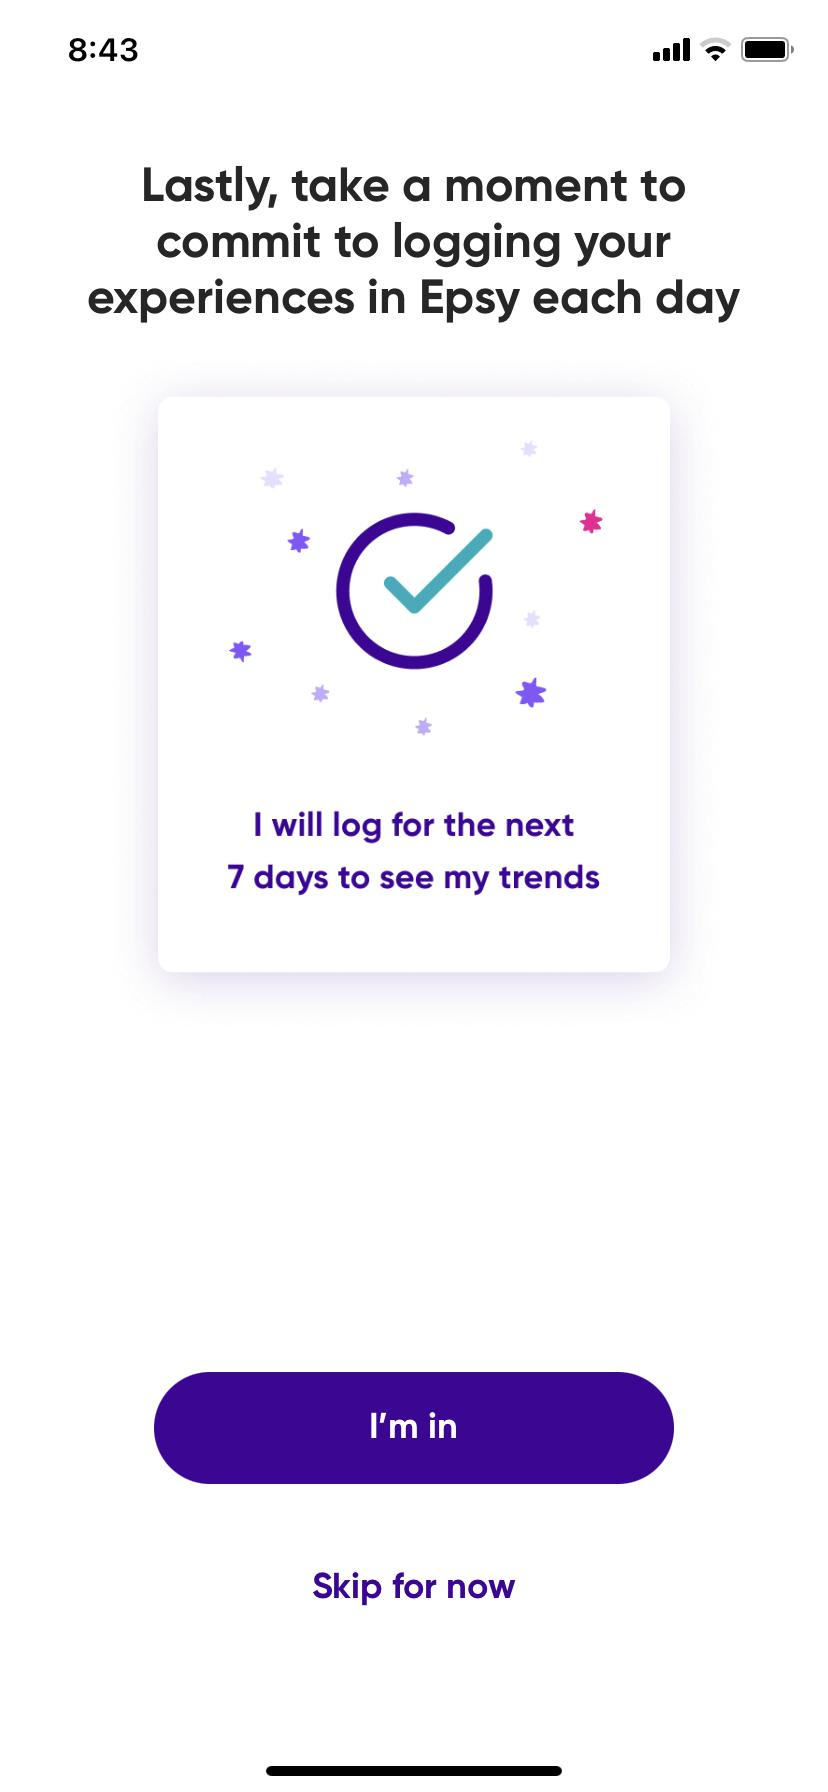Buttons: (143, 1354, 680, 1509), (271, 1533, 546, 1631)
